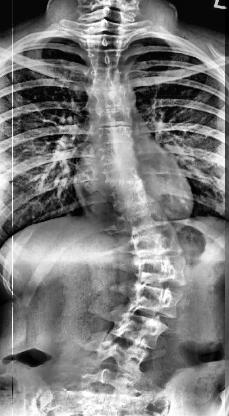Vertebrae: (109, 312, 169, 350), (128, 280, 184, 320), (95, 338, 147, 374), (131, 228, 187, 260), (136, 256, 190, 288), (122, 203, 172, 237), (110, 182, 158, 212), (102, 166, 149, 192), (96, 144, 139, 170), (94, 103, 136, 129), (90, 84, 134, 108), (94, 126, 136, 148), (87, 50, 124, 70), (86, 34, 126, 52), (87, 68, 125, 86)
